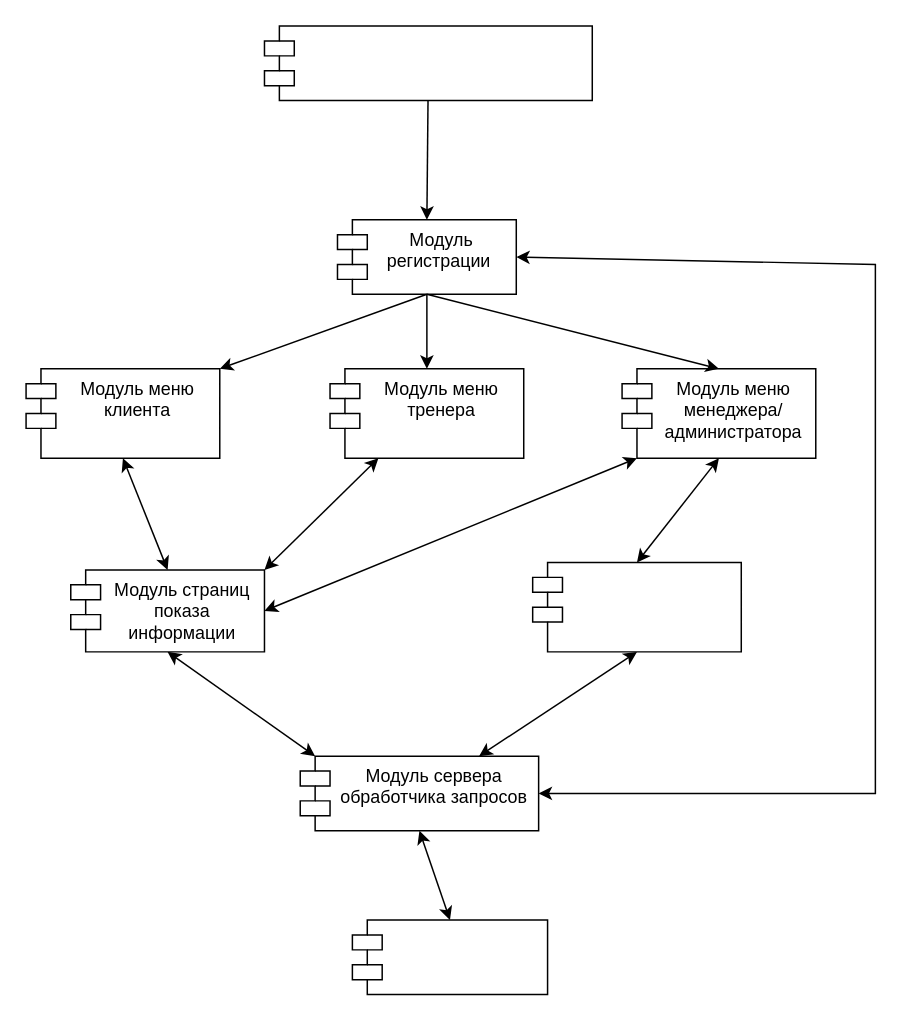
Image size: 915x1021. Some labels were removed from this diagram. The shapes that lost their labels are listed below. From the top down, each one's centre as x and y in pixels, then its label:
(427,63): Система "Приложение для фитнесс центра"
(636,606): Модуль страниц редактирования информации
(449,957): Модуль База данных
